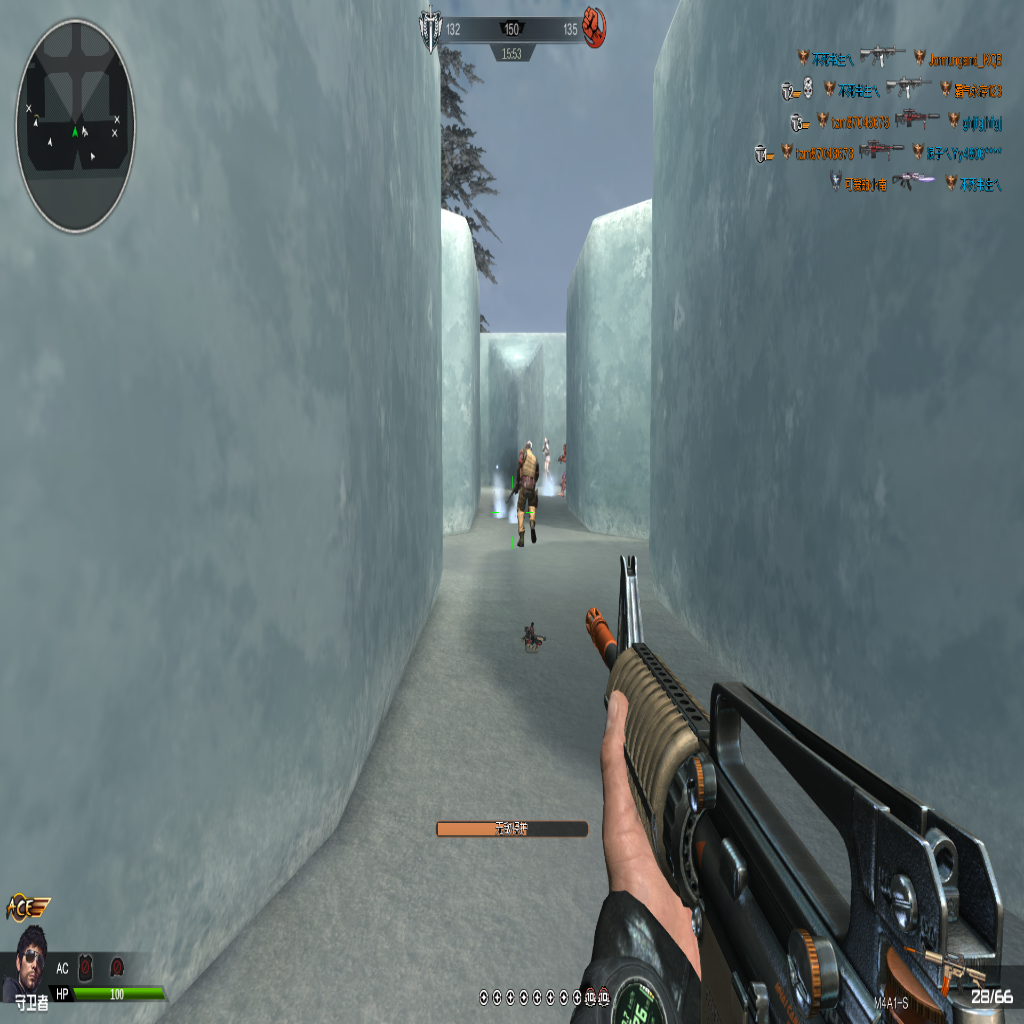tt: (512, 436, 538, 548), (542, 438, 551, 476)
